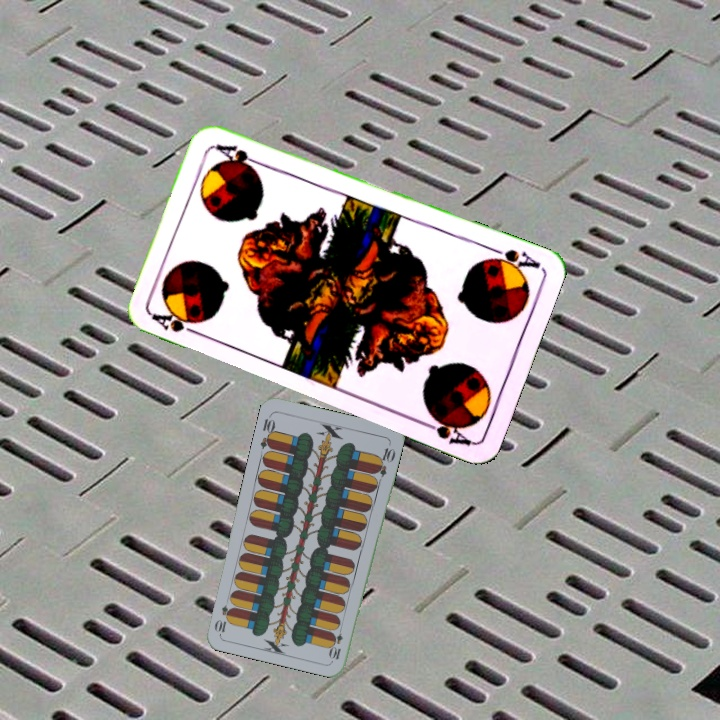E10: (256, 411, 278, 451), (327, 621, 346, 662)
SA: (481, 243, 542, 275), (148, 309, 206, 339)
